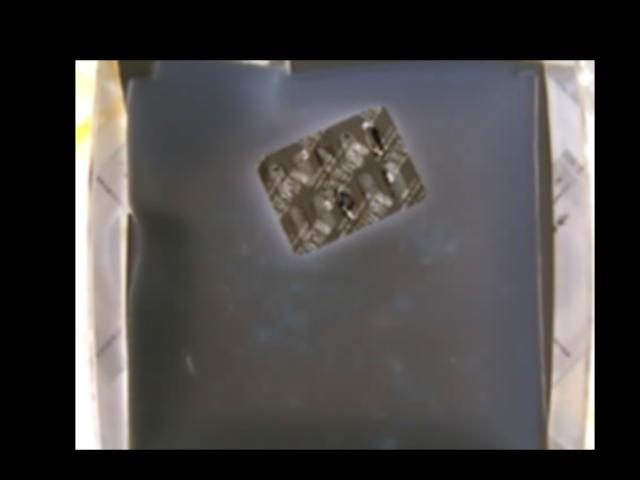Medicine: (257, 104, 427, 254)
